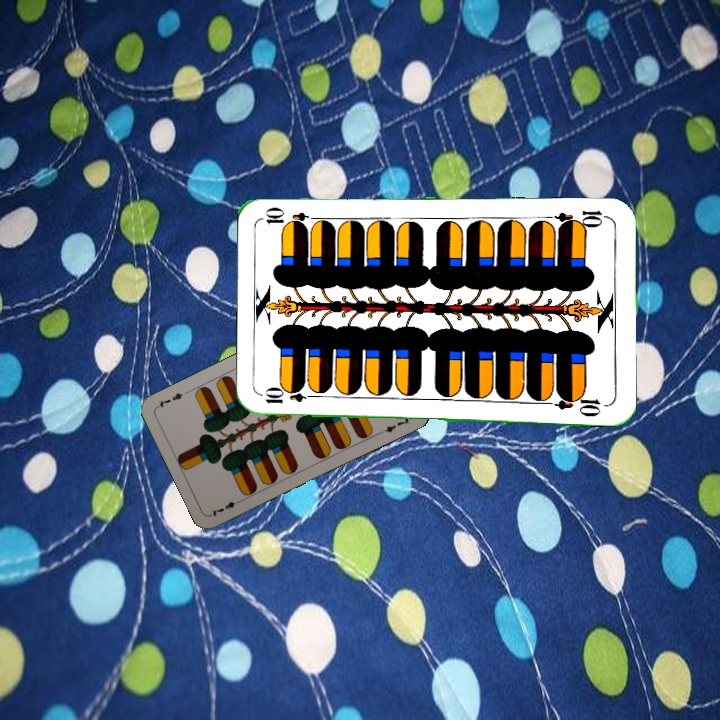E10: (552, 207, 611, 232), (261, 388, 320, 406)
E7: (207, 495, 245, 519)
